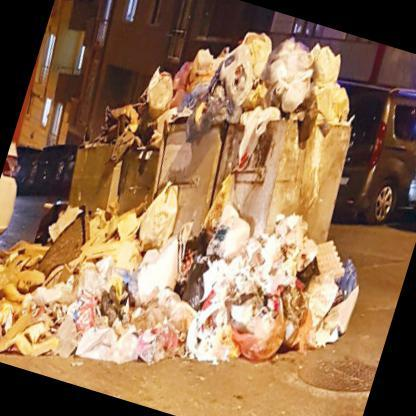Garbage: (6, 184, 276, 408), (122, 176, 377, 378), (187, 18, 368, 126), (0, 252, 121, 375), (104, 36, 252, 136)
